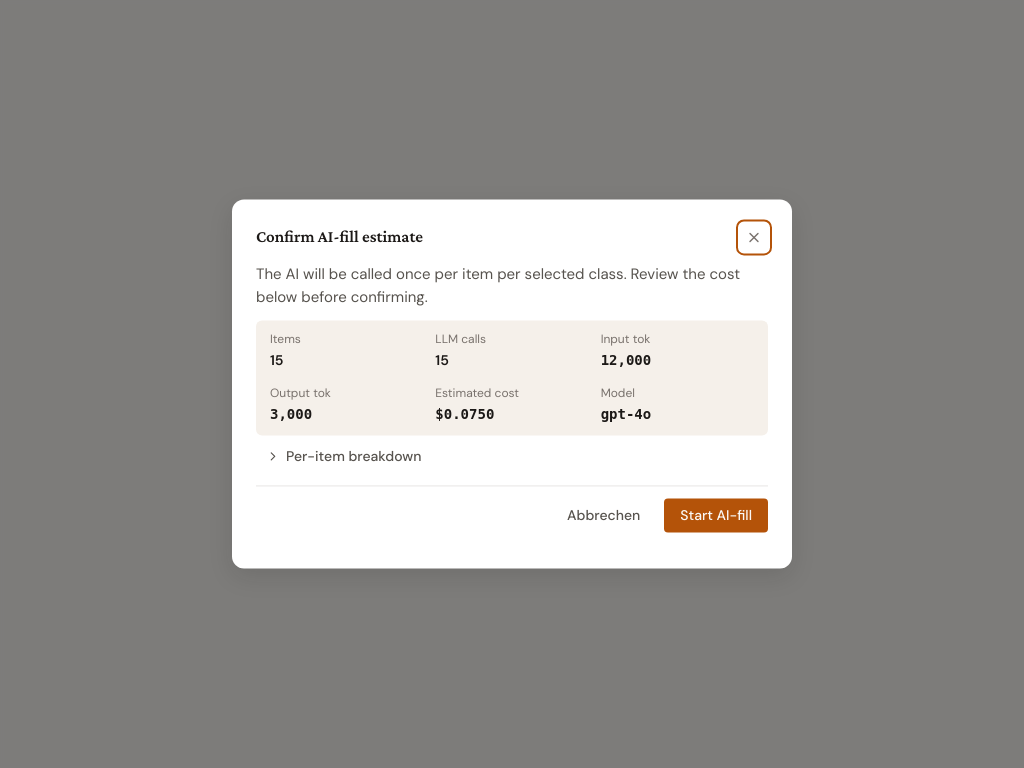
BulkAiFillConfirmDialog › shows a disclosure toggle when items count >= threshold
Toggle expands it.
Click the button with test id "bulk-fill-estimate-breakdown-toggle" at (344, 457), box [256, 444, 431, 470]
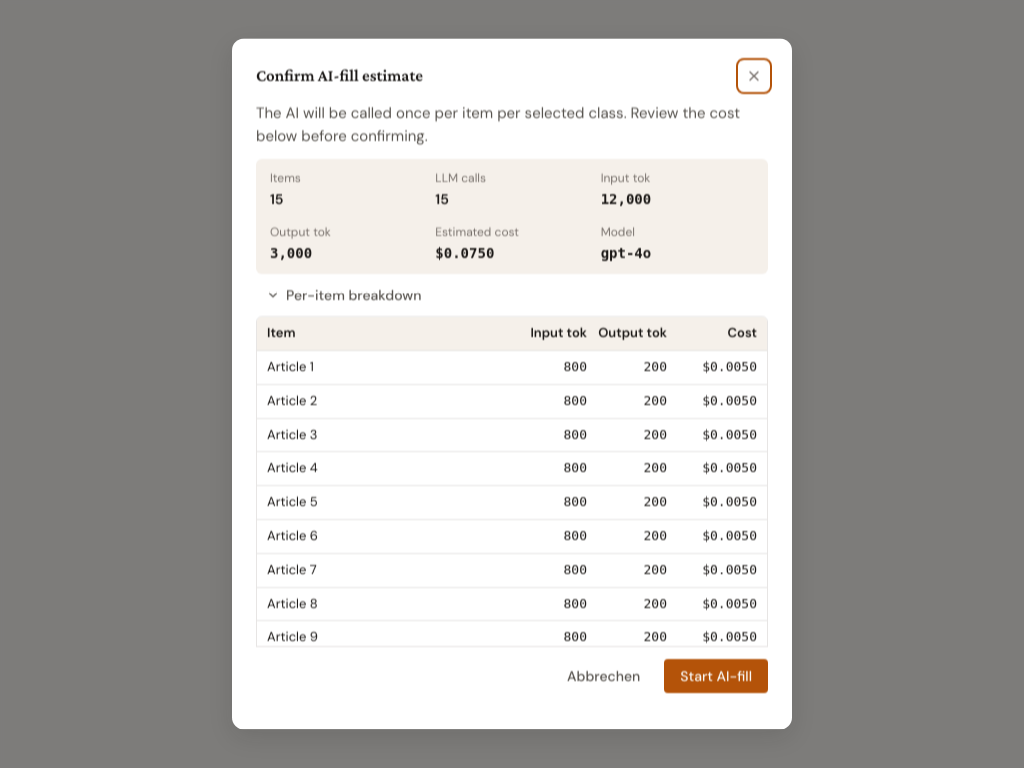
Check: the element with test id "bulk-fill-estimate-per-item" is shown, box [256, 317, 768, 677]
